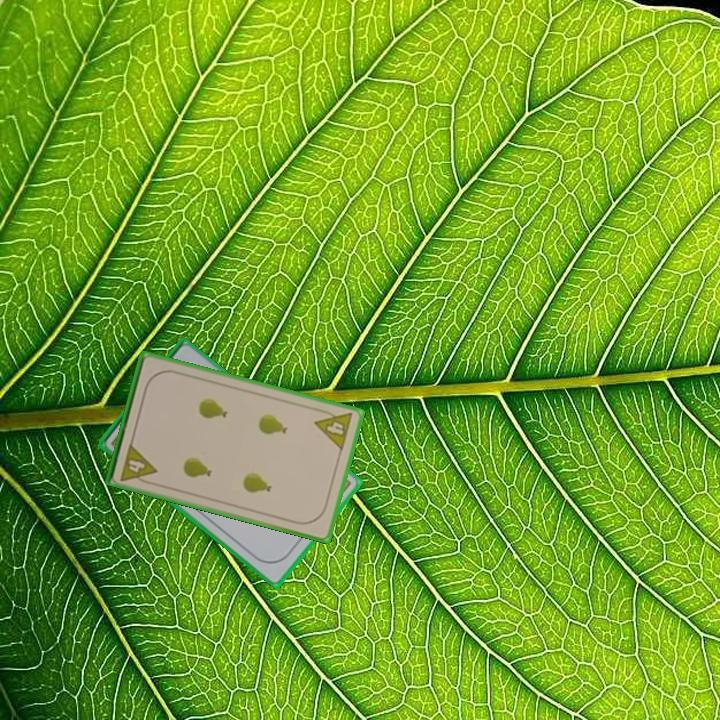4p: (311, 405, 356, 453), (117, 440, 159, 487)
